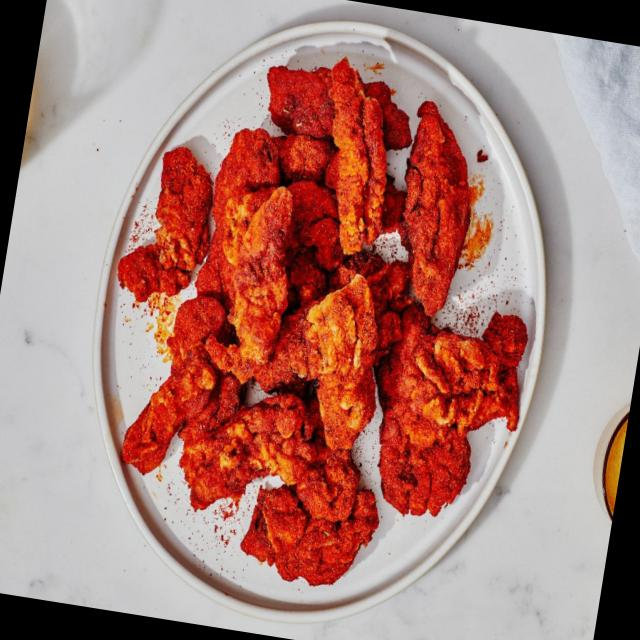chicken: (82, 43, 560, 612)
